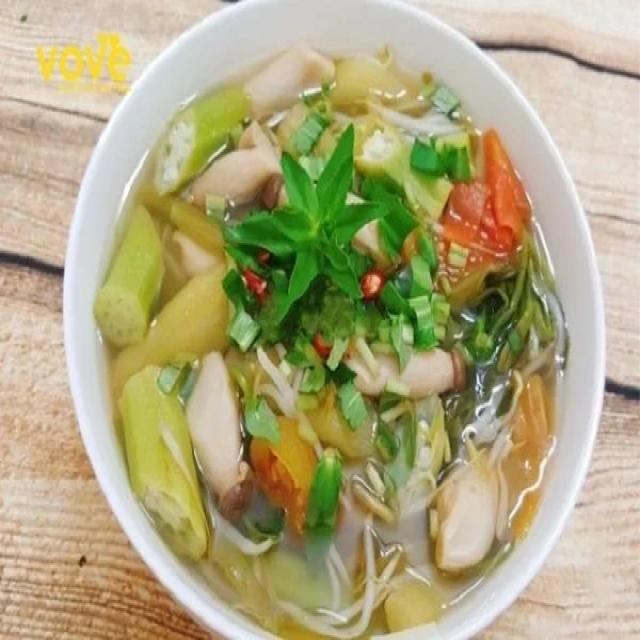canh chua: (94, 46, 567, 638)
